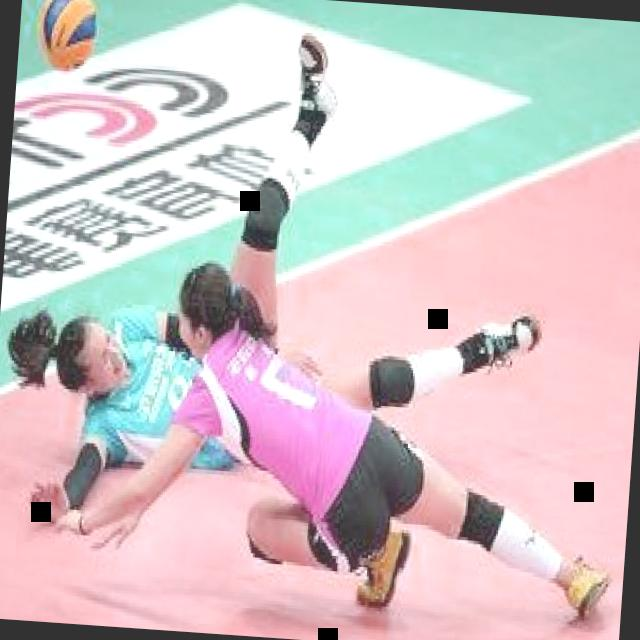Fall-Detected: (98, 11, 613, 622)
